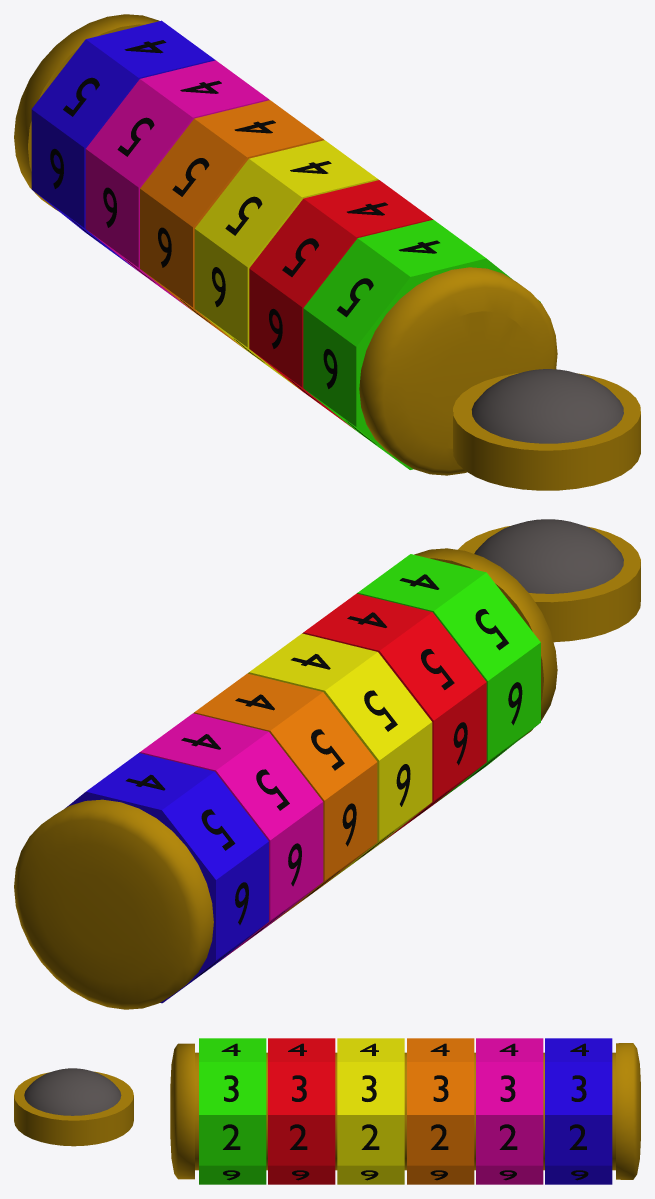
The model's file is Cryptex.fbx.
The picture shows the model from 3 angles, top to bottom: view 1: azimuth 30°, elevation 25°; view 2: azimuth 150°, elevation 25°; view 3: azimuth 270°, elevation 25°; orthographic projection. The views are drawn at different scales.
Parts seen in each view (by area): view 1: Cylinder.001, Cube.005, Cube.003, Cube.002, Text.042, Cube, Cube.004, Cylinder, Sphere; view 2: Cylinder.001, Cube, Cube.003, Cube.004, Cube.002, Text.042, Cube.005, Sphere, Cylinder; view 3: Cube, Cube.002, Cube.003, Cube.004, Cube.005, Text.042, Cylinder.001, Cylinder, Sphere.
Part boxes in pixels (x1=…): Cylinder.001: x1=14, y1=14, x2=557, y2=475; Cube.005: x1=303, y1=219, x2=540, y2=469; Cube.003: x1=194, y1=140, x2=378, y2=389; Cube.002: x1=140, y1=100, x2=324, y2=350; Text.042: x1=85, y1=60, x2=269, y2=310; Cube: x1=31, y1=20, x2=215, y2=269; Cube.004: x1=249, y1=180, x2=432, y2=429; Cylinder: x1=453, y1=373, x2=640, y2=490; Sphere: x1=471, y1=369, x2=623, y2=443; Cylinder.001: x1=14, y1=548, x2=557, y2=1009; Cube: x1=65, y1=753, x2=268, y2=1003; Cube.003: x1=247, y1=633, x2=432, y2=882; Cube.004: x1=302, y1=593, x2=486, y2=842; Cube.002: x1=193, y1=673, x2=377, y2=923; Text.042: x1=139, y1=713, x2=323, y2=961; Cube.005: x1=357, y1=554, x2=540, y2=803; Sphere: x1=474, y1=519, x2=623, y2=593; Cylinder: x1=458, y1=526, x2=640, y2=642; Cube: x1=545, y1=1038, x2=612, y2=1184; Cube.002: x1=407, y1=1038, x2=474, y2=1184; Cube.003: x1=337, y1=1038, x2=404, y2=1184; Cube.004: x1=268, y1=1038, x2=335, y2=1184; Cube.005: x1=199, y1=1038, x2=266, y2=1184; Text.042: x1=476, y1=1038, x2=543, y2=1184; Cylinder.001: x1=170, y1=1043, x2=640, y2=1179; Cylinder: x1=14, y1=1071, x2=133, y2=1146; Sphere: x1=24, y1=1068, x2=121, y2=1115.
Bounding box in the file's own units: 235 × 235 × 1076.
